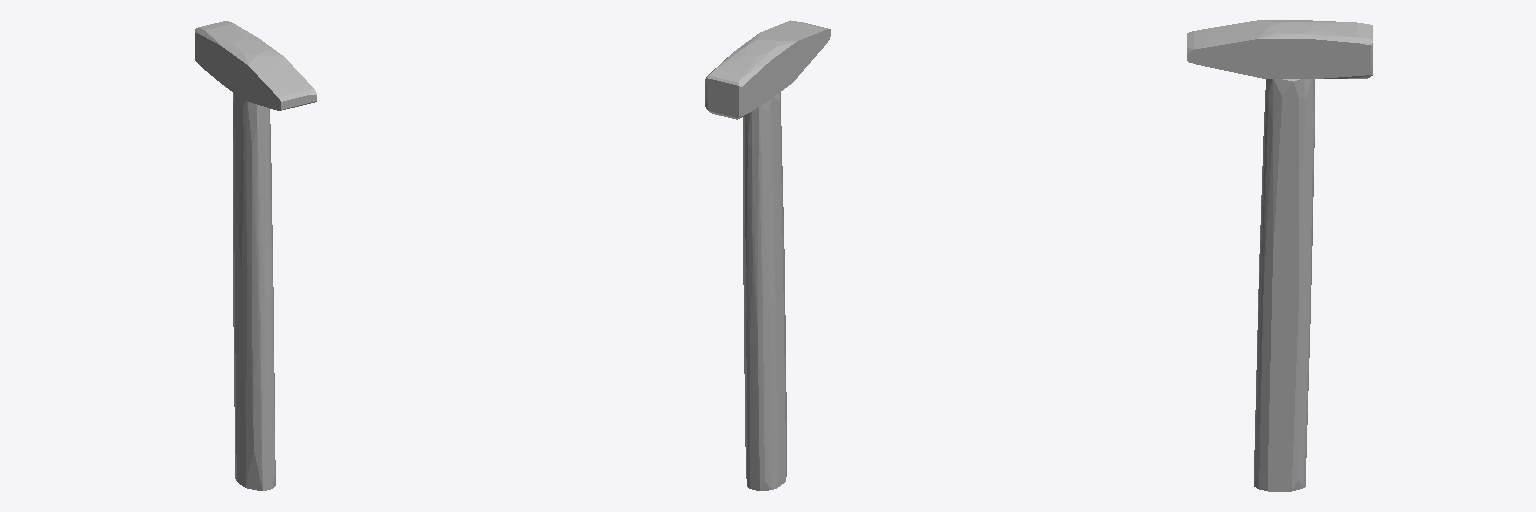
URDF robot description (root):
<robot name="root">
  <link name="link_9d55527c08568fb7fcc0b9c5b716d443_convex_piece_0">
    <inertial>
      <origin rpy="0 0 0" xyz="0 0 0"/>
      <mass value="3.02E-06"/>
      <inertia ixx="-4.86E-09" ixy="3.66E-13" ixz="4.61E-11" iyy="-4.88E-09" iyz="3.21E-11" izz="5.38E-11"/>
    </inertial>
    <visual>
      <origin rpy="0 0 0" xyz="0 0 0"/>
      <geometry>
        <mesh filename="9d55527c08568fb7fcc0b9c5b716d443_convex_piece_0.obj" scale="1.0000E+00"/>
      </geometry>
      <material name="">
        <color rgba="7.50E-01 7.50E-01 7.50E-01 1"/>
      </material>
    </visual>
    <collision>
      <origin rpy="0 0 0" xyz="0 0 0"/>
      <geometry>
        <mesh filename="9d55527c08568fb7fcc0b9c5b716d443_convex_piece_0.obj" scale="1.0000E+00"/>
      </geometry>
    </collision>
  </link>
  <link name="link_9d55527c08568fb7fcc0b9c5b716d443_convex_piece_1">
    <inertial>
      <origin rpy="0 0 0" xyz="0 0 0"/>
      <mass value="1.44E-06"/>
      <inertia ixx="8.31E-10" ixy="-5.58E-14" ixz="1.95E-11" iyy="6.32E-10" iyz="2.19E-10" izz="2.26E-10"/>
    </inertial>
    <visual>
      <origin rpy="0 0 0" xyz="0 0 0"/>
      <geometry>
        <mesh filename="9d55527c08568fb7fcc0b9c5b716d443_convex_piece_1.obj" scale="1.0000E+00"/>
      </geometry>
      <material name="">
        <color rgba="7.50E-01 7.50E-01 7.50E-01 1"/>
      </material>
    </visual>
    <collision>
      <origin rpy="0 0 0" xyz="0 0 0"/>
      <geometry>
        <mesh filename="9d55527c08568fb7fcc0b9c5b716d443_convex_piece_1.obj" scale="1.0000E+00"/>
      </geometry>
    </collision>
  </link>
  <joint name="link_9d55527c08568fb7fcc0b9c5b716d443_convex_piece_1_joint" type="fixed">
    <origin rpy="0 0 0" xyz="0 0 0"/>
    <parent link="link_9d55527c08568fb7fcc0b9c5b716d443_convex_piece_0"/>
    <child link="link_9d55527c08568fb7fcc0b9c5b716d443_convex_piece_1"/>
  </joint>
</robot>

--- Render facts (derived) ---
Views: 3 orthographic renders of the robot side by side, from view 1: azimuth 30°, elevation 25°; view 2: azimuth 150°, elevation 25°; view 3: azimuth 270°, elevation 25°.
Model root with 2 links and 1 joints (1 fixed), rooted at link_9d55527c08568fb7fcc0b9c5b716d443_convex_piece_0, posed all joints at 0.
Links seen in each view (by area): view 1: link_9d55527c08568fb7fcc0b9c5b716d443_convex_piece_0, link_9d55527c08568fb7fcc0b9c5b716d443_convex_piece_1; view 2: link_9d55527c08568fb7fcc0b9c5b716d443_convex_piece_0, link_9d55527c08568fb7fcc0b9c5b716d443_convex_piece_1; view 3: link_9d55527c08568fb7fcc0b9c5b716d443_convex_piece_0, link_9d55527c08568fb7fcc0b9c5b716d443_convex_piece_1.
Boxes of the visible links, x1,y1,x2,y2 form: link_9d55527c08568fb7fcc0b9c5b716d443_convex_piece_0: (233, 93, 275, 490); link_9d55527c08568fb7fcc0b9c5b716d443_convex_piece_1: (195, 21, 316, 110); link_9d55527c08568fb7fcc0b9c5b716d443_convex_piece_0: (743, 92, 786, 490); link_9d55527c08568fb7fcc0b9c5b716d443_convex_piece_1: (705, 20, 830, 119); link_9d55527c08568fb7fcc0b9c5b716d443_convex_piece_0: (1254, 79, 1314, 491); link_9d55527c08568fb7fcc0b9c5b716d443_convex_piece_1: (1187, 20, 1372, 78).
Bounding box of the posed robot: 0.0108 × 0.0456 × 0.1232 m (x, y, z).
Meshes: 2 distinct files referenced, 2 mesh visuals loaded (2 OBJ).